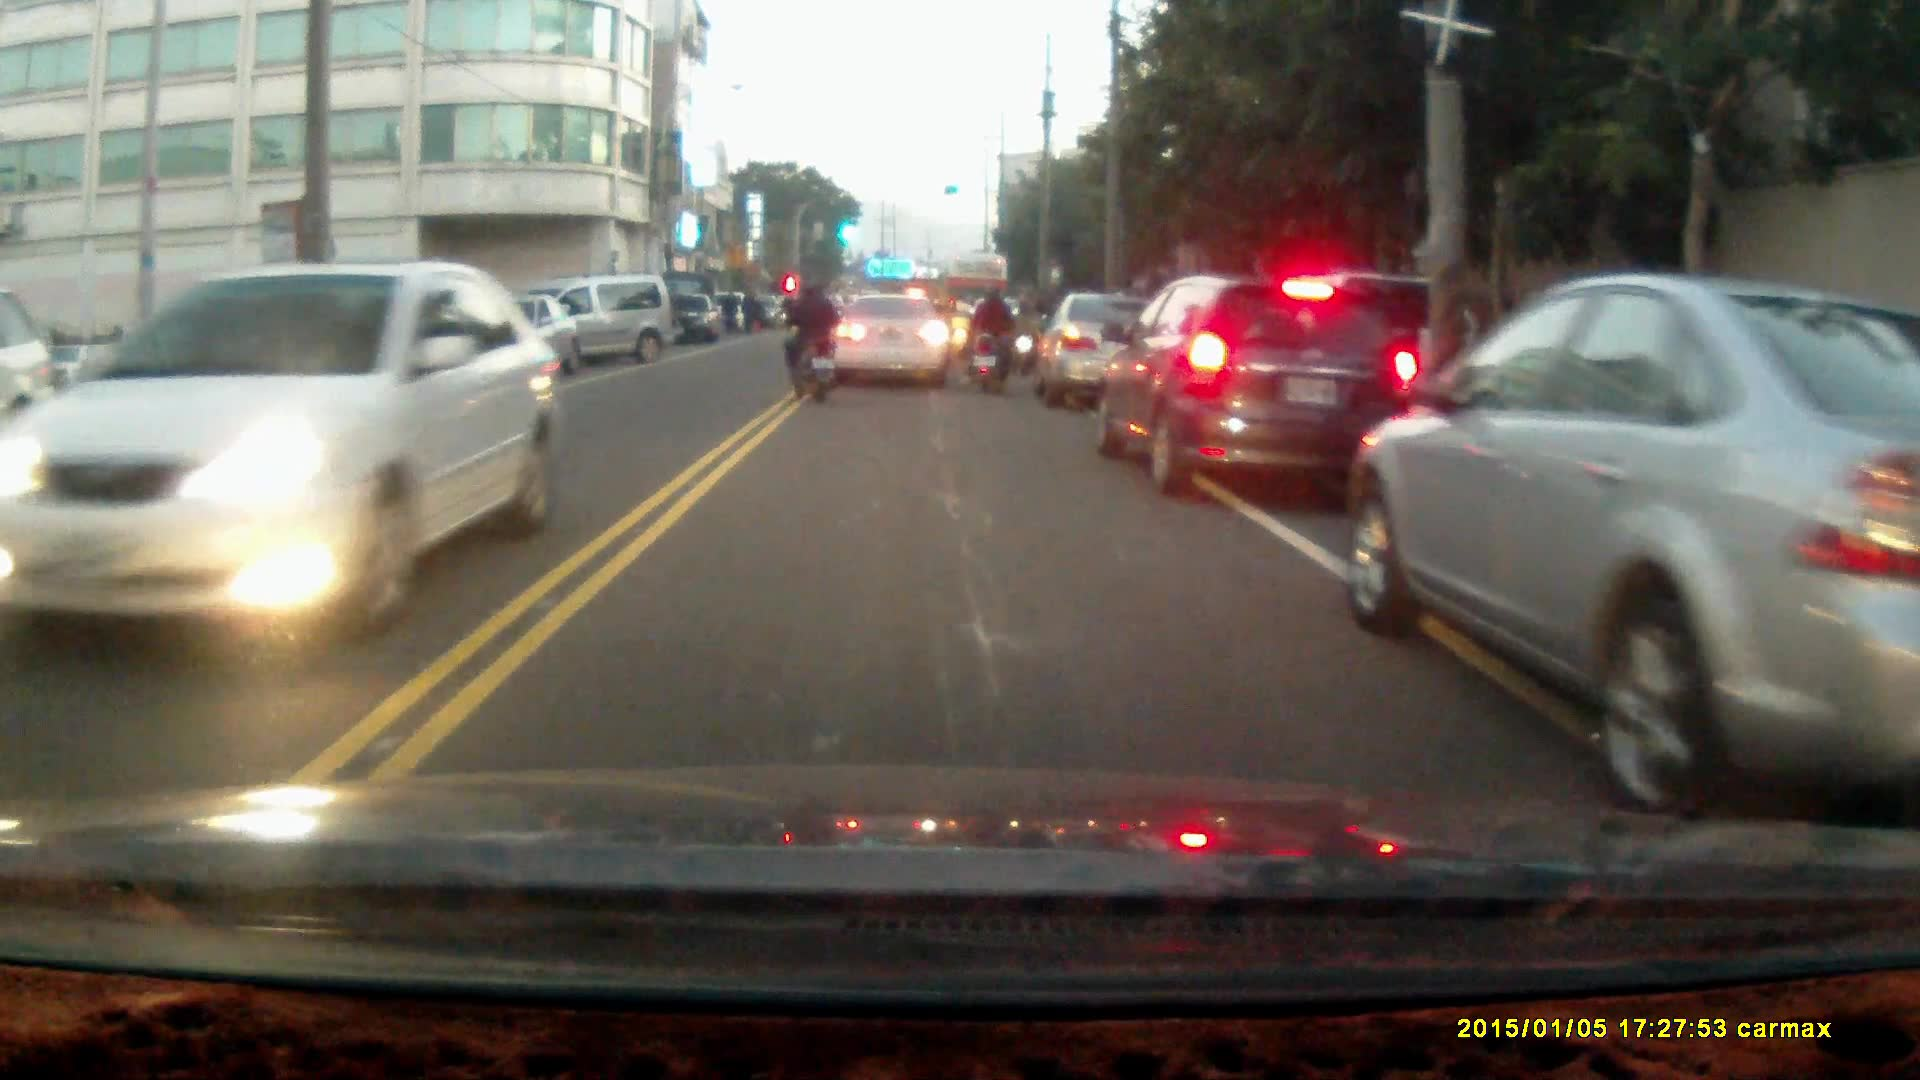rider: (780, 278, 840, 403), (963, 280, 1019, 394)
vehicle: (1359, 266, 1920, 808), (22, 258, 540, 642), (1088, 267, 1420, 494), (426, 290, 590, 387), (1036, 293, 1157, 408), (832, 289, 949, 392), (1, 284, 61, 476), (667, 293, 721, 345)
